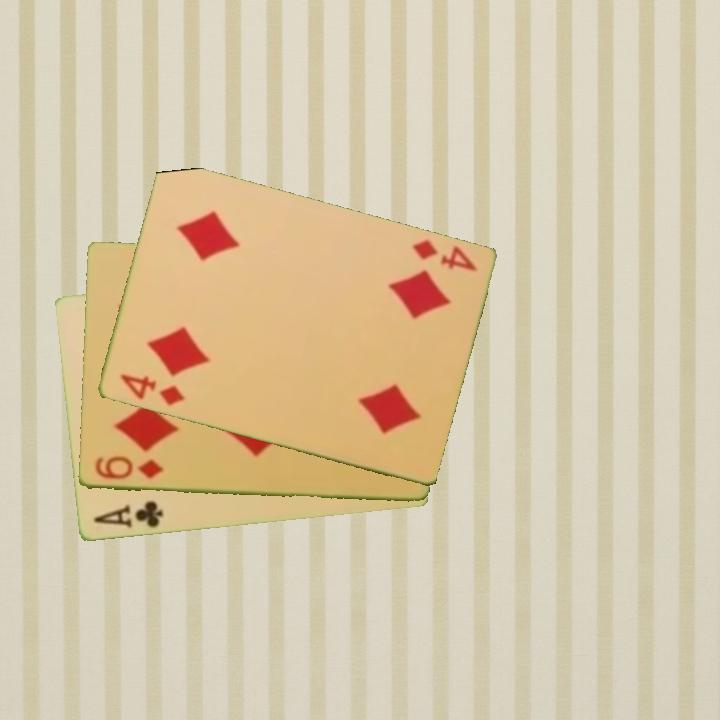4d: (116, 370, 187, 409), (408, 236, 479, 275)
6d: (91, 453, 165, 483)
Ac: (89, 498, 166, 532)
